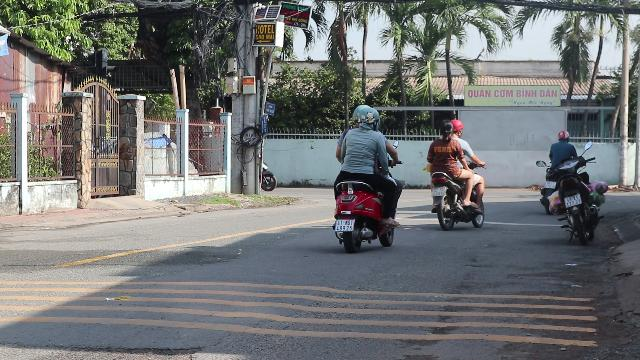helmet: (358, 105, 379, 129), (353, 104, 371, 124), (451, 119, 464, 135)
licenseplate: (336, 219, 354, 231), (431, 187, 445, 195)
motorcyclist: (327, 104, 403, 252), (425, 118, 487, 230)
nohelmet: (438, 120, 452, 138)
